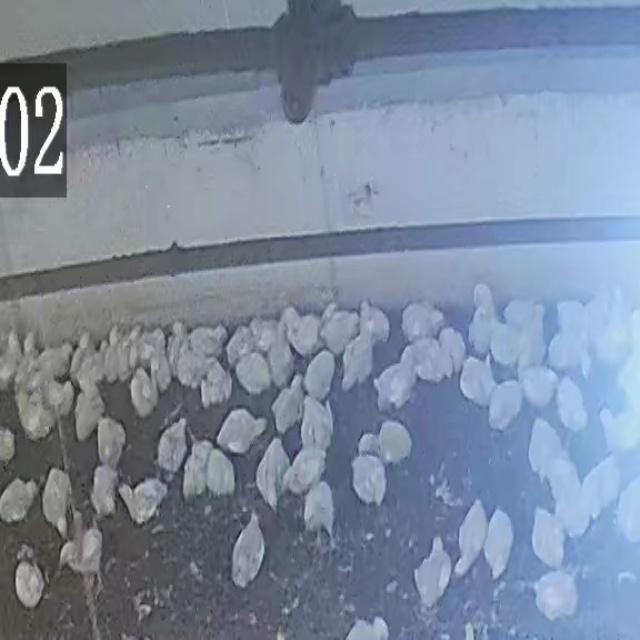chicken: (542, 460, 586, 539), (546, 299, 590, 374), (590, 293, 632, 367), (230, 513, 266, 590), (577, 457, 615, 527), (413, 540, 451, 610), (453, 500, 487, 578), (60, 521, 104, 581), (254, 438, 290, 511), (41, 467, 76, 537), (532, 569, 578, 622), (280, 304, 324, 359), (215, 408, 267, 454), (468, 284, 500, 358), (527, 416, 564, 478), (531, 505, 566, 569), (12, 549, 48, 611), (483, 507, 513, 580), (372, 361, 414, 413), (340, 330, 375, 392), (405, 336, 449, 385), (126, 477, 170, 525), (286, 446, 328, 496), (458, 354, 496, 408), (318, 307, 360, 355), (0, 474, 38, 525), (520, 365, 560, 413), (233, 351, 274, 397), (487, 380, 523, 432), (299, 396, 333, 450), (303, 482, 335, 539), (156, 418, 189, 473), (488, 320, 525, 369), (615, 471, 640, 543), (183, 443, 214, 501), (270, 380, 303, 434), (302, 350, 336, 402), (400, 301, 442, 343), (352, 455, 387, 505), (129, 368, 162, 420), (204, 448, 238, 498), (90, 464, 120, 520), (266, 330, 294, 389), (15, 394, 50, 441), (32, 340, 74, 379), (199, 362, 233, 410), (558, 378, 590, 428), (35, 377, 77, 415), (76, 378, 102, 439), (377, 420, 413, 464), (358, 300, 392, 346), (174, 345, 208, 390), (601, 408, 639, 448), (96, 417, 127, 466), (186, 325, 226, 360), (438, 327, 467, 375), (0, 328, 24, 386), (225, 323, 258, 365), (248, 316, 282, 356), (502, 297, 540, 331), (18, 328, 41, 384), (136, 322, 162, 365), (166, 326, 187, 377), (344, 616, 388, 640), (77, 331, 99, 379), (150, 350, 173, 395), (103, 339, 123, 380), (0, 425, 16, 464)
